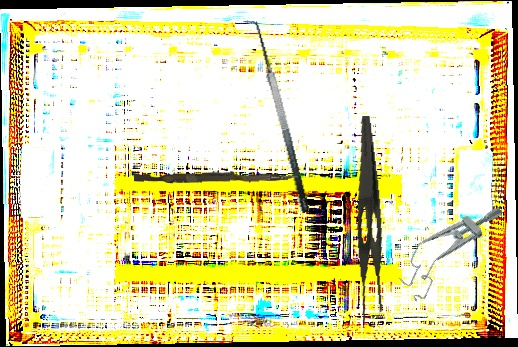Dressing Forceps: (337, 115, 394, 323)
Pusher: (133, 168, 299, 186)
Spatula Surgical: (240, 16, 312, 217)
Speculum: (388, 187, 510, 305)
